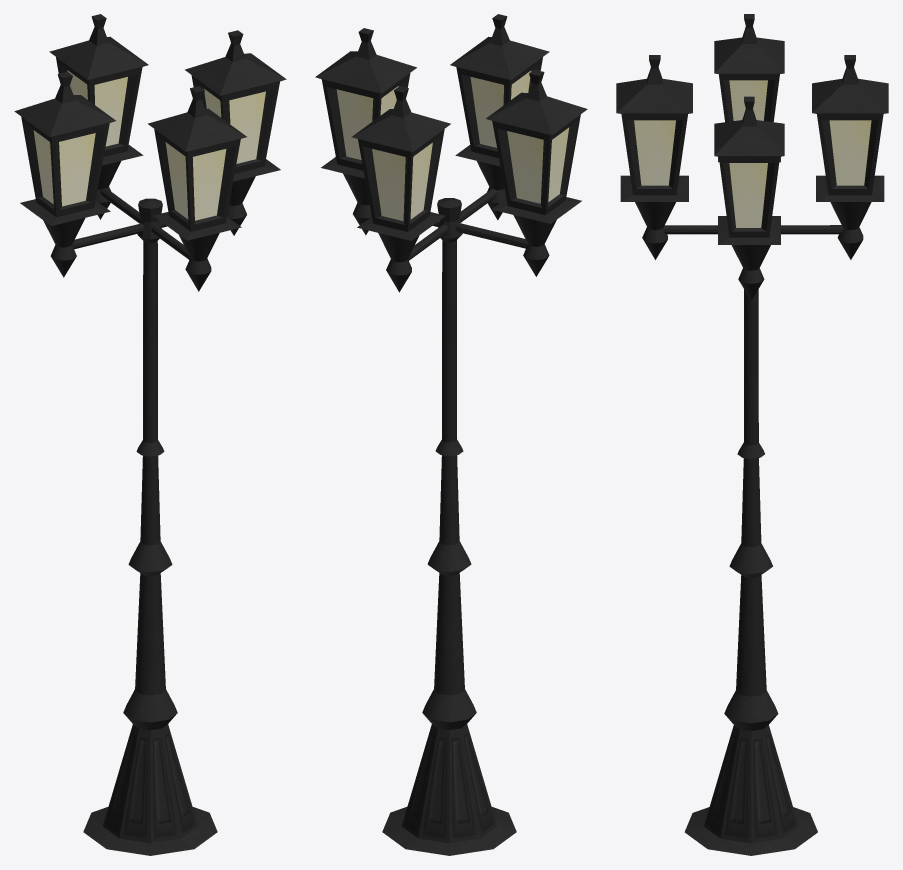
File: D_lamppost_4x_park.FBX
The picture shows the model from 3 angles, left to right: view 1: azimuth 30°, elevation 25°; view 2: azimuth 150°, elevation 25°; view 3: azimuth 270°, elevation 25°; orthographic projection.
Visible parts, largest first — view 1: Object155; view 2: Object155; view 3: Object155.
Boxes of the visible parts, bbox=[...] form: Object155: bbox=[14, 14, 286, 855]; Object155: bbox=[315, 14, 587, 855]; Object155: bbox=[616, 14, 888, 855].
Bounding box in the file's own units: 3.74 × 3.74 × 11.65.
2 materials, 2 textured.
